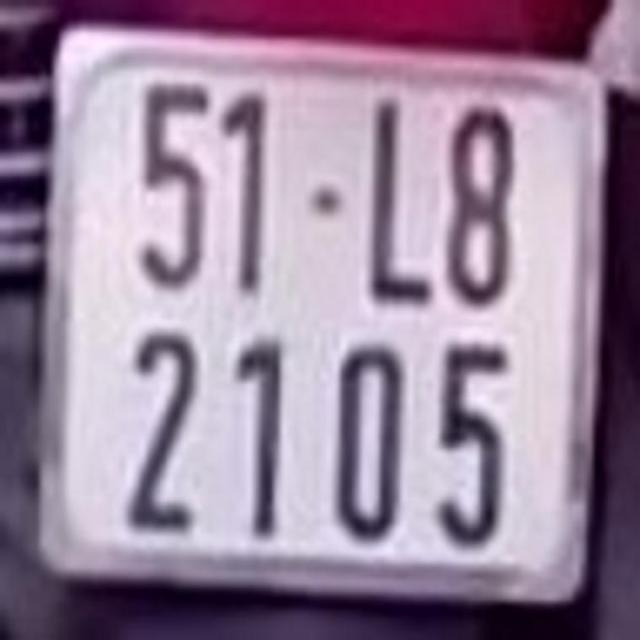0: (332, 331, 408, 543)
1: (224, 324, 293, 538), (212, 70, 276, 292)
2: (126, 313, 196, 538)
5: (436, 333, 509, 550), (138, 70, 211, 286)
8: (441, 86, 515, 308)
L: (358, 85, 436, 306)
